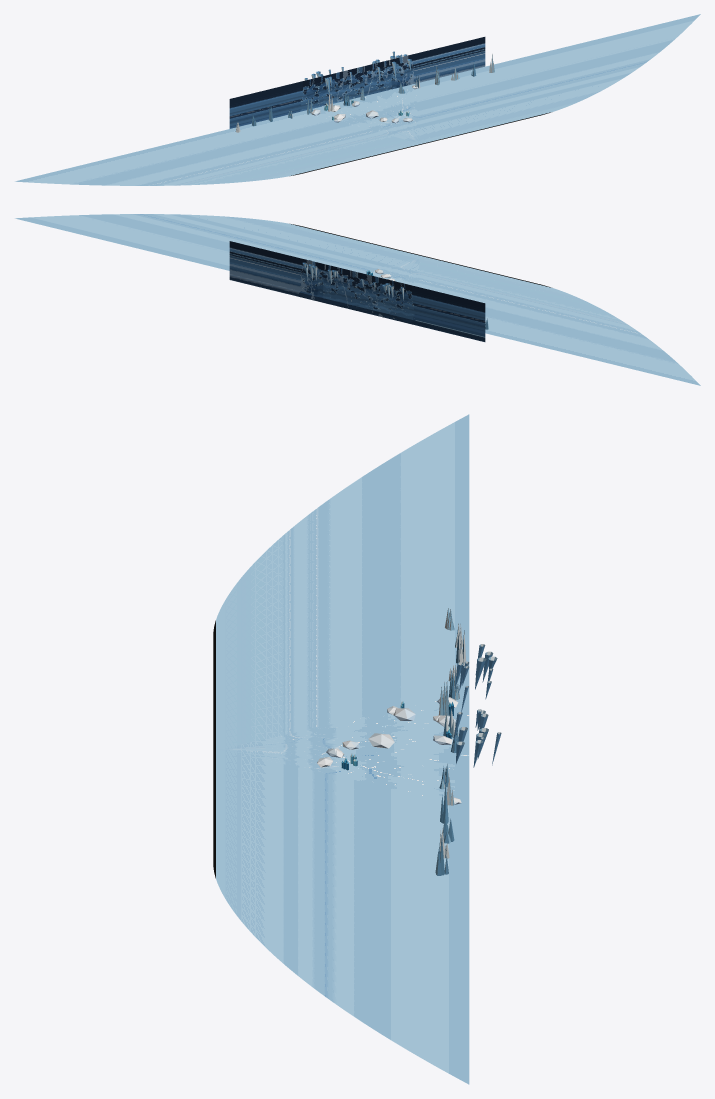
File: bg_ice.glb
3 renders of one model, top to bottom at view 1: azimuth 30°, elevation 25°; view 2: azimuth 150°, elevation 25°; view 3: azimuth 270°, elevation 25°, orthographic. The views are drawn at different scales.
Parts seen in each view (by area): view 1: ground, ice_wall, ice_decor, icicles; view 2: ground, ice_wall, icicles; view 3: ground, ice_decor, icicles.
Boxes of the visible parts, box(x1,y1,x2,y2) form: ground: box(15, 14, 700, 185); ice_wall: box(229, 37, 485, 128); ice_decor: box(235, 54, 494, 132); icicles: box(304, 51, 411, 92); ground: box(15, 214, 700, 385); ice_wall: box(229, 241, 485, 341); icicles: box(302, 260, 403, 300); ground: box(213, 414, 469, 1084); ice_decor: box(317, 608, 465, 875); icicles: box(453, 644, 501, 767).
Size of the model in its own units: 80 by 4.34 by 14.53.
Materials: 7 (2 with a texture image).
